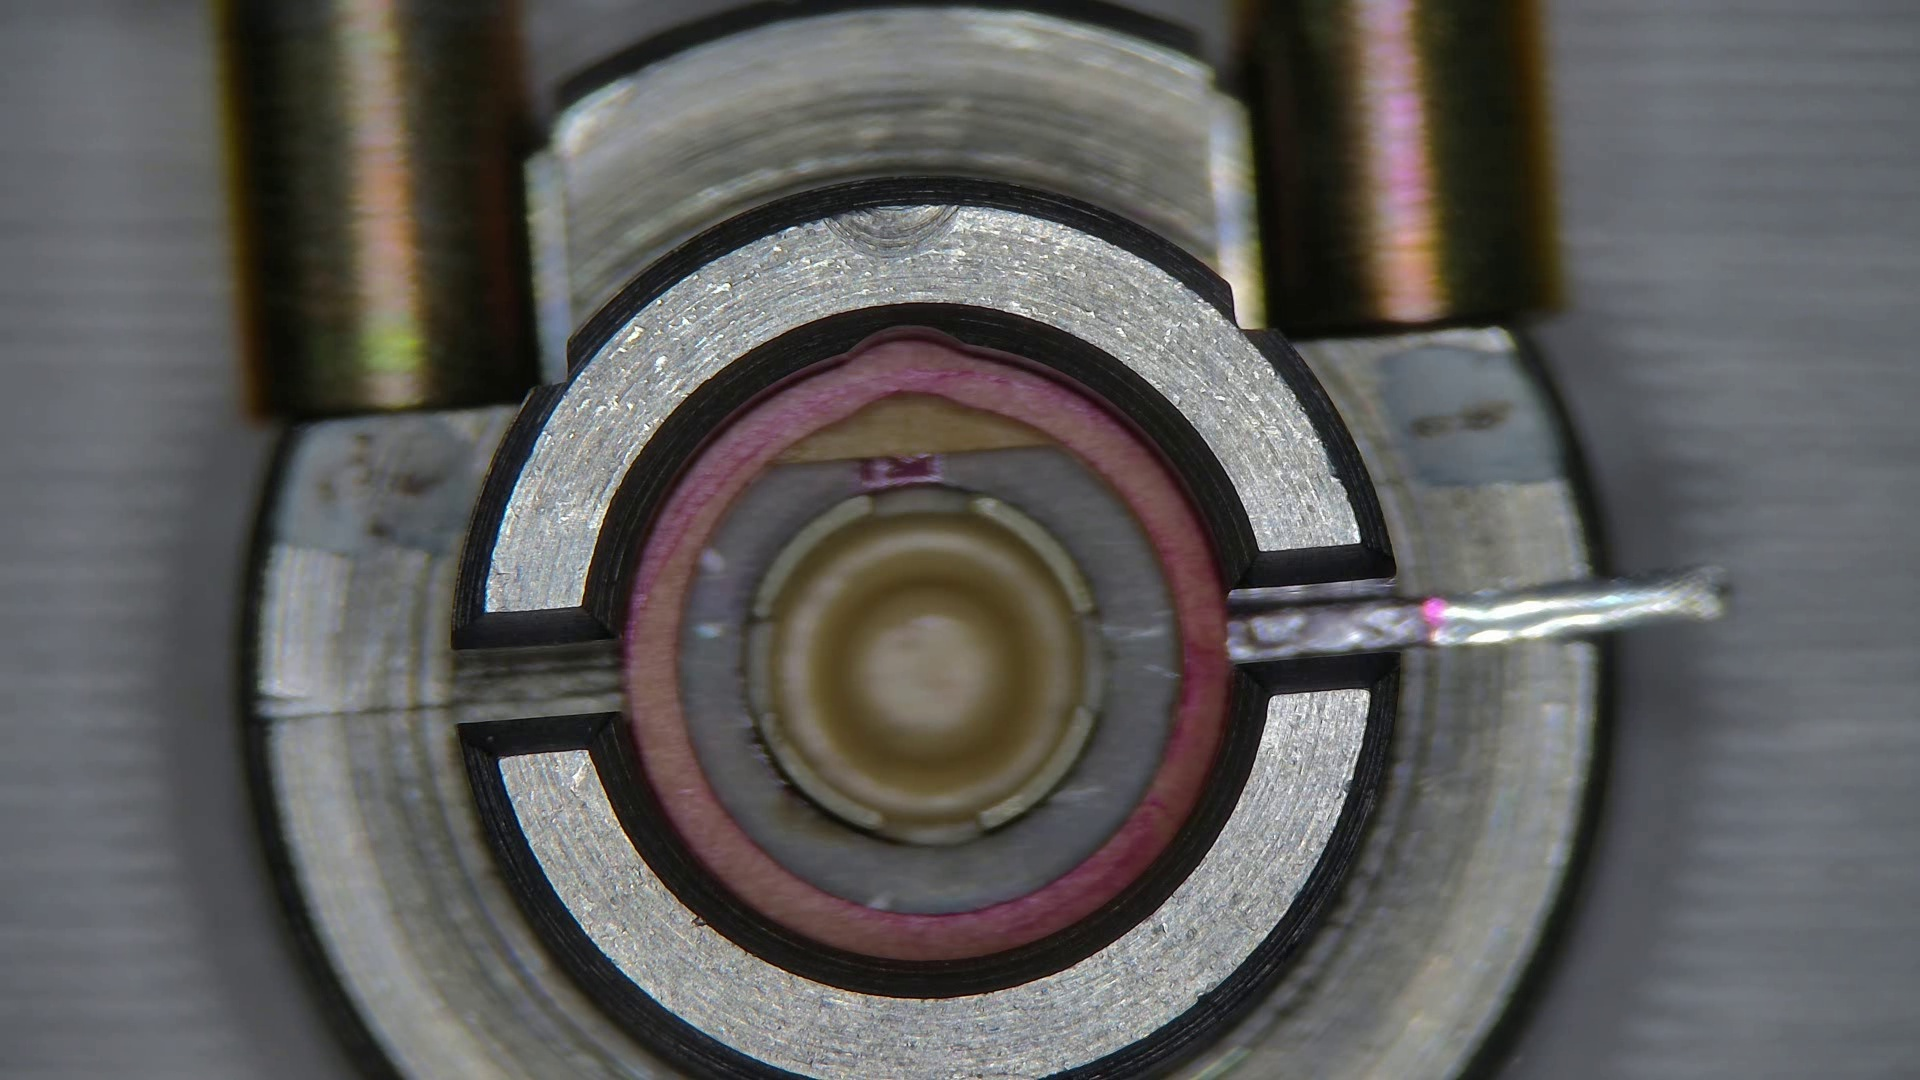GreyOring: (626, 338, 1230, 960)
YellowOring: (682, 452, 1178, 911)
redOring: (778, 397, 1059, 460)
